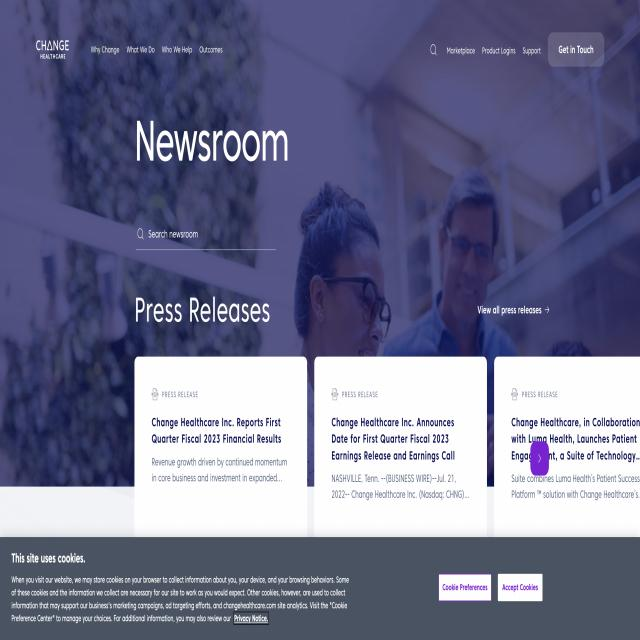Logo: (32, 34, 74, 76)
Navigation: (80, 31, 624, 68)
